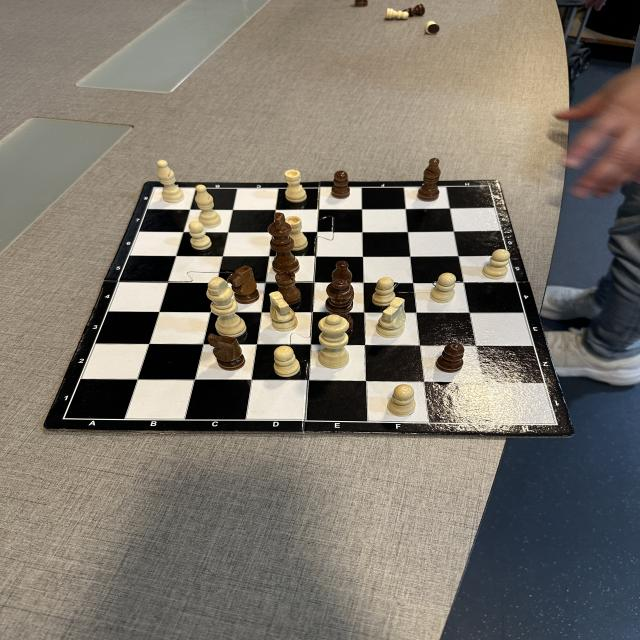Black-Bishop: (417, 158, 440, 201), (331, 261, 353, 283)
Black-King: (268, 212, 300, 275)
Black-Knight: (207, 333, 245, 371), (228, 266, 260, 304)
Black-Pawn: (436, 343, 464, 373), (332, 171, 351, 199), (404, 3, 425, 17)
Black-Queen: (326, 279, 354, 335)
Black-Rook: (275, 270, 301, 304)
White-Bishop: (156, 160, 184, 203), (196, 185, 221, 227)
White-King: (206, 277, 247, 338)
White-Knight: (375, 297, 407, 338), (268, 291, 298, 332)
White-Pawn: (388, 384, 416, 417), (273, 346, 301, 377), (429, 272, 456, 304), (482, 249, 510, 279), (372, 277, 396, 307), (189, 222, 212, 250), (386, 8, 408, 20), (426, 20, 439, 34)
White-Queen: (318, 314, 349, 368)
White-Rook: (284, 216, 308, 251), (285, 170, 307, 202)
